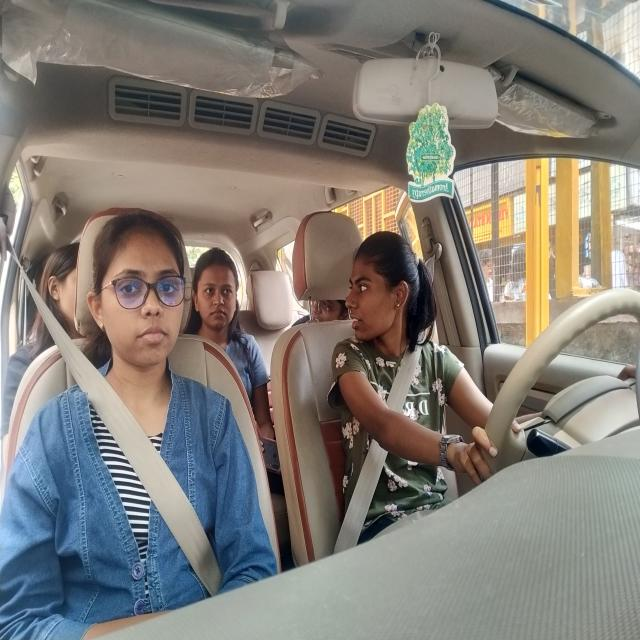LeftRight: (346, 236, 413, 348)
person: (90, 214, 194, 370), (40, 229, 83, 332), (201, 242, 250, 326), (302, 300, 347, 328)
